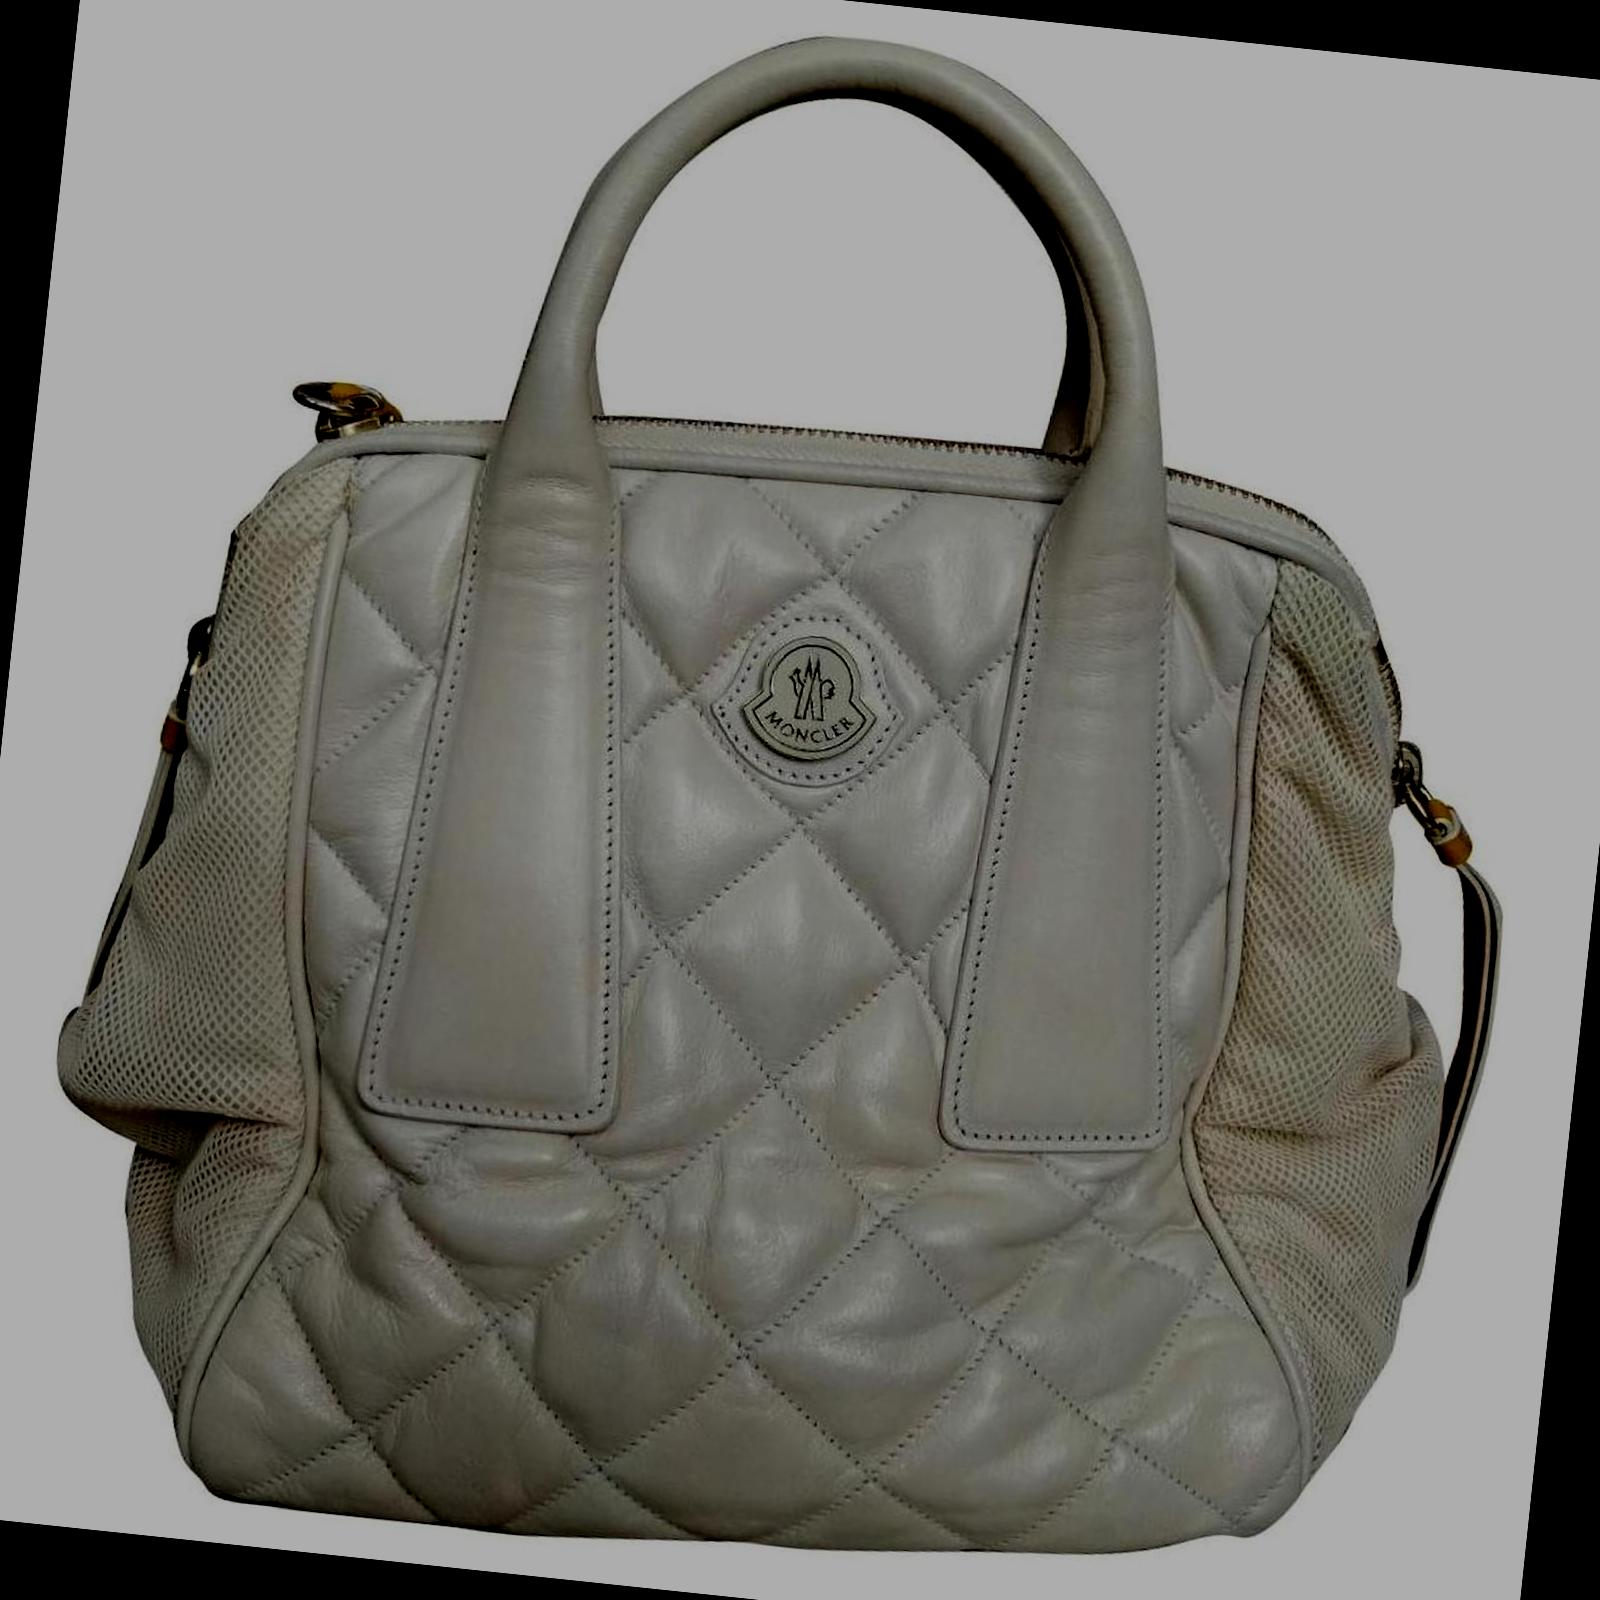MONCLER: (737, 629, 886, 771)
